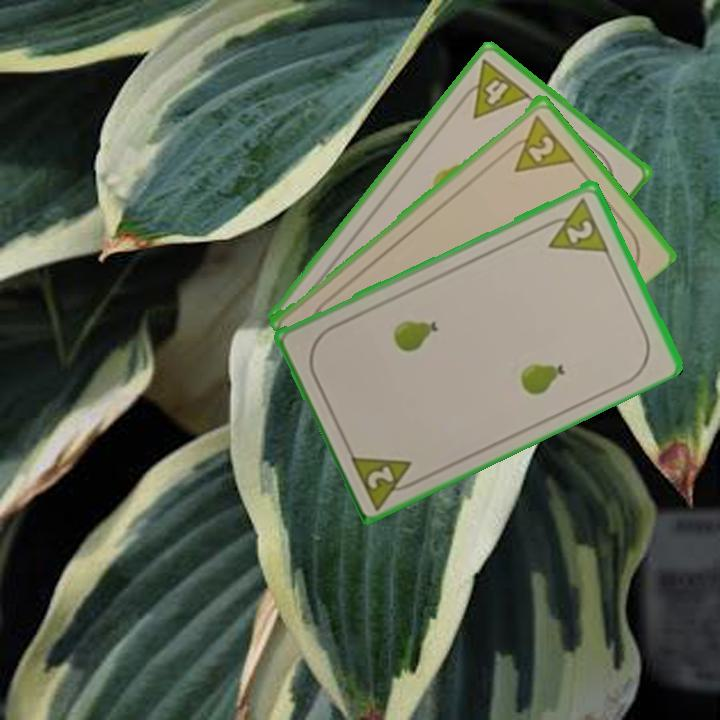2p: (500, 111, 577, 175), (346, 449, 425, 511), (536, 193, 612, 255)
4p: (453, 55, 534, 122)
